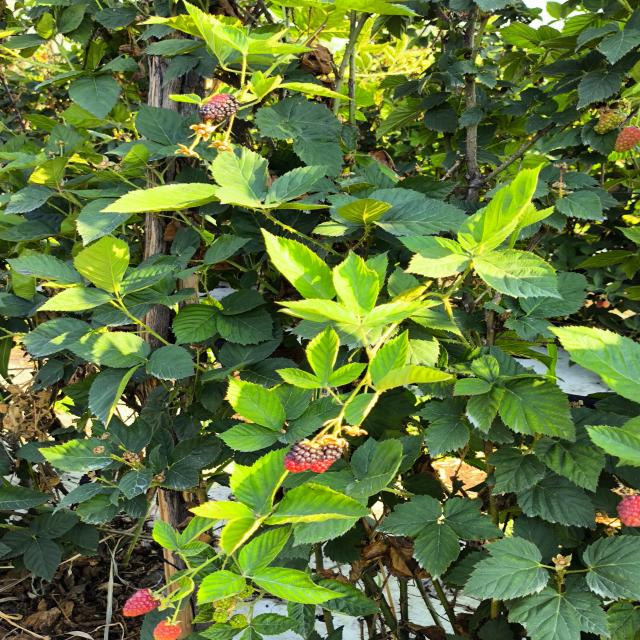marron: (199, 93, 239, 121), (284, 444, 320, 472), (312, 444, 342, 472)
naranja: (123, 589, 159, 616), (617, 495, 640, 527), (614, 126, 640, 152), (153, 620, 182, 640)
verde: (594, 110, 625, 134), (213, 597, 236, 613), (228, 614, 248, 629), (237, 586, 254, 599), (212, 610, 228, 623)
